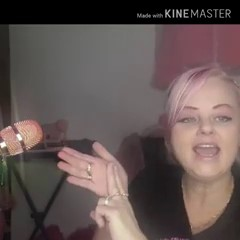N: (51, 136, 146, 237)
